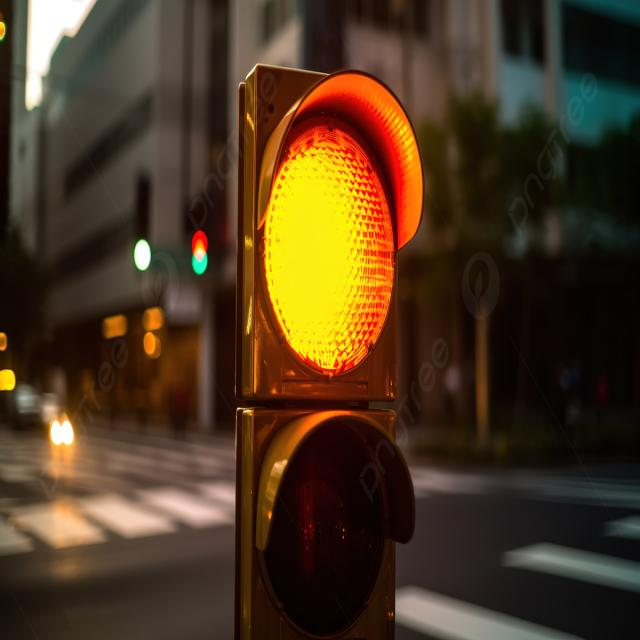Kuning: (263, 124, 395, 376)
